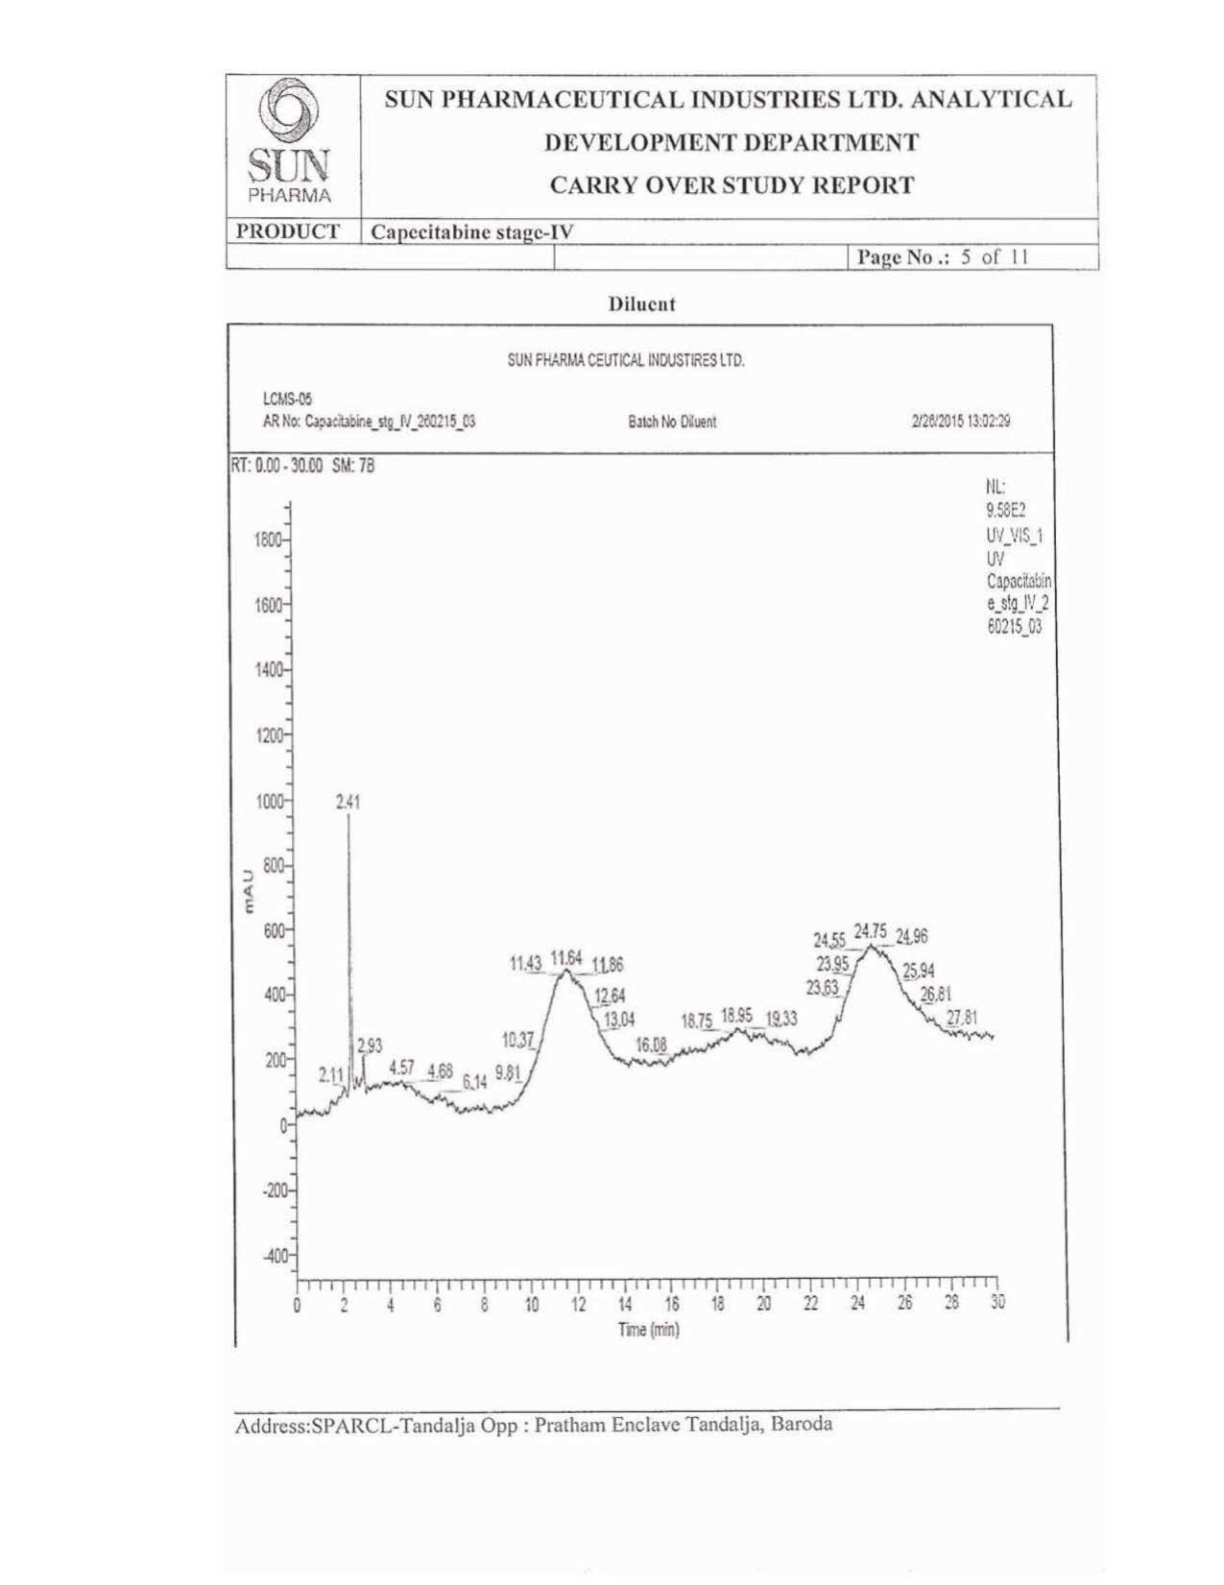merged_cells: (224, 71, 1101, 273)
